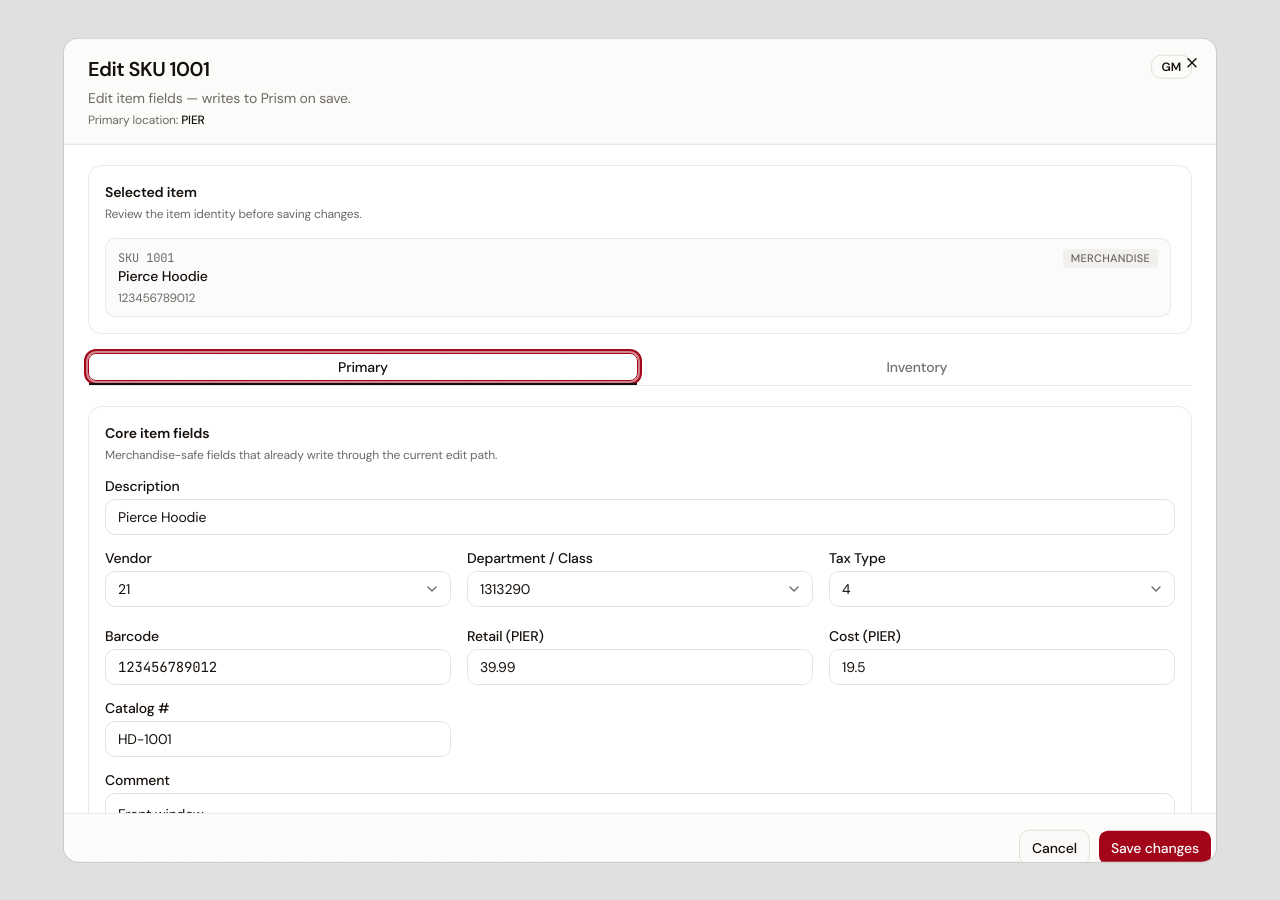
EditItemDialogV2 › hydrates inventory state when detail finishes loading after the dialog opens
The image size is (1280, 900).
Click the tab "Inventory" at (917, 367), box [642,353,1192,381]
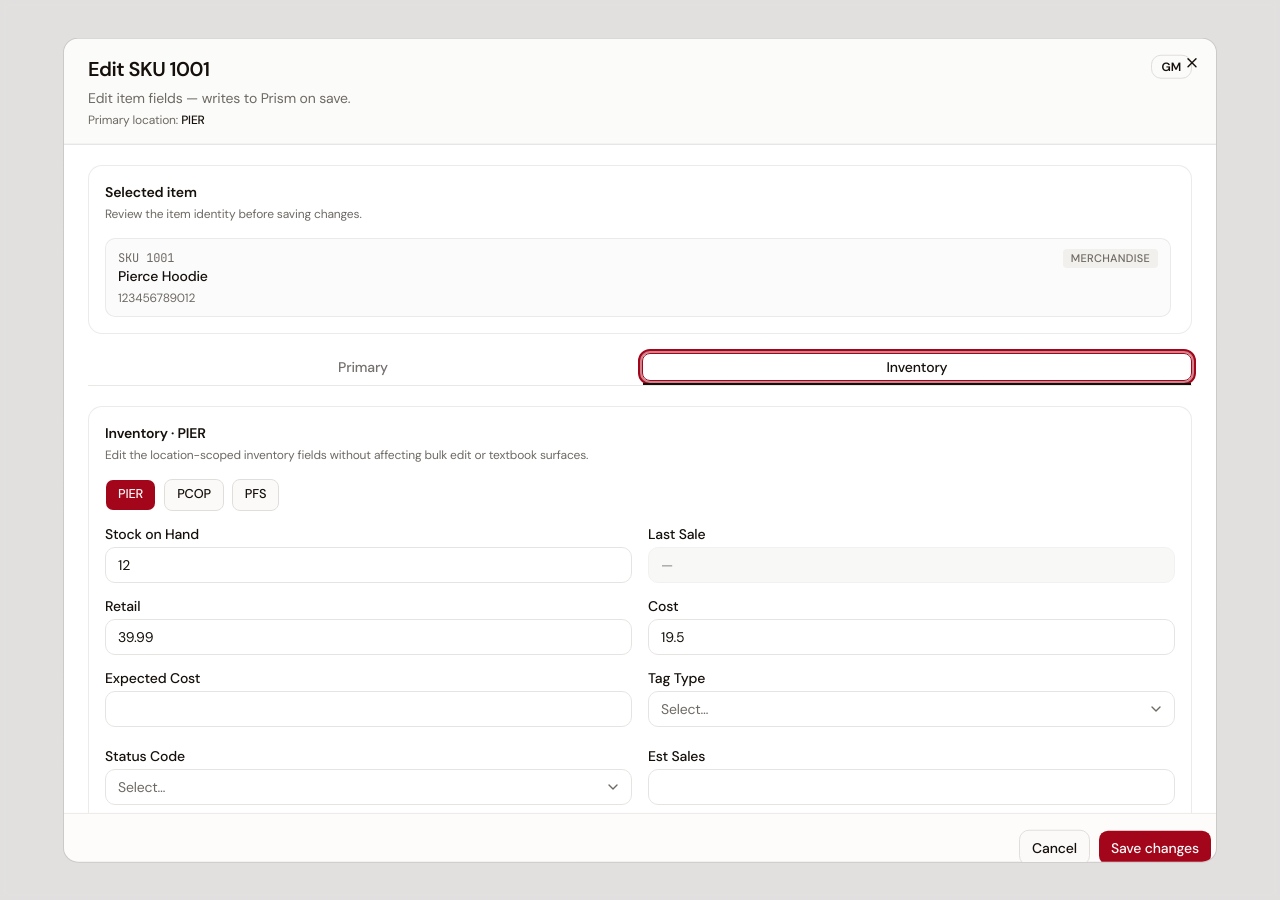
Click the button "PCOP" at (194, 494), box [164,478,224,510]
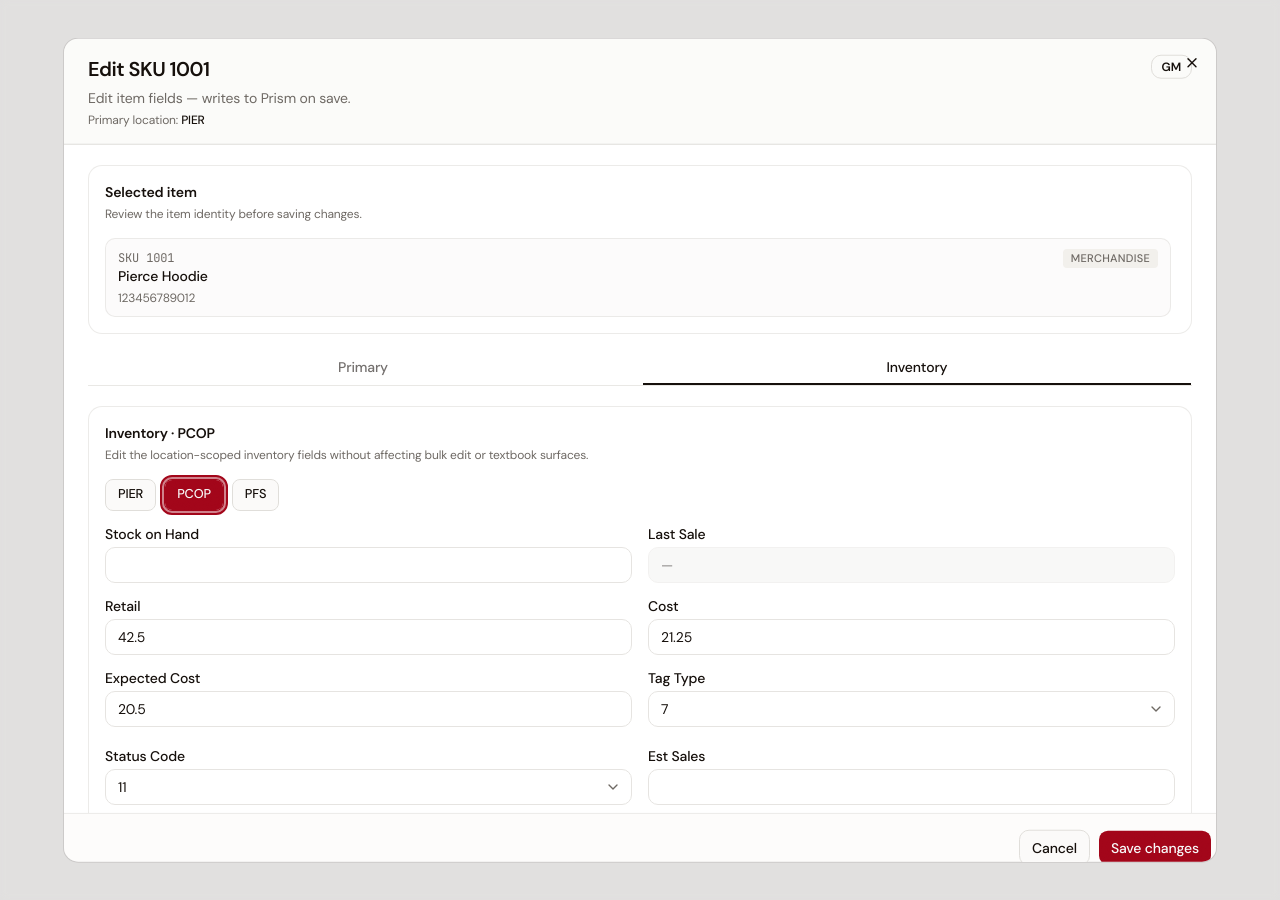
Check: the number field labelled "Retail" holds "42.5", box [105,618,632,654]
Check: the number field labelled "Cost" holds "21.25", box [648,618,1175,654]
